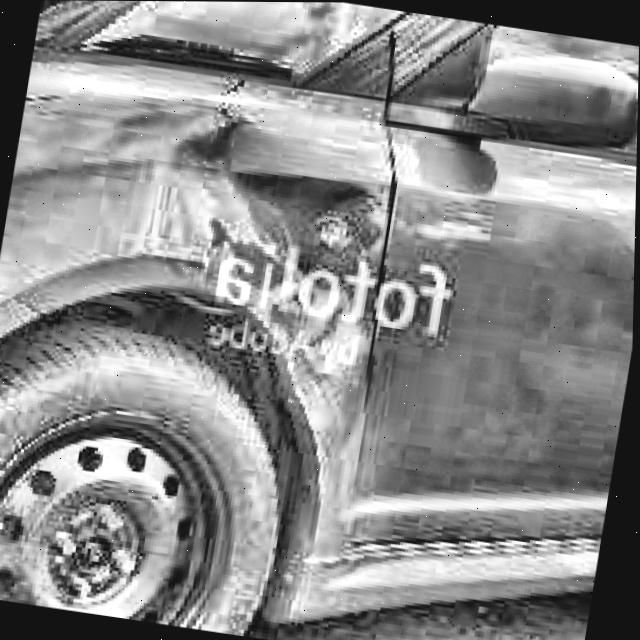door_dent: (199, 153, 383, 387)
